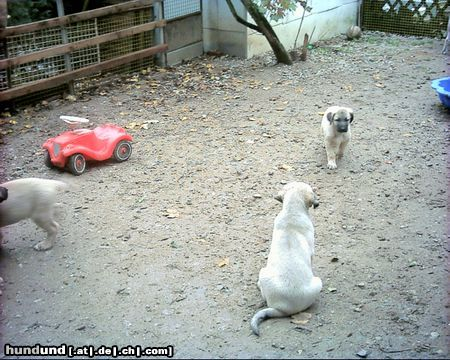kangal: (249, 181, 323, 336), (320, 105, 353, 169)
other_dog_breed: (0, 177, 69, 252)
